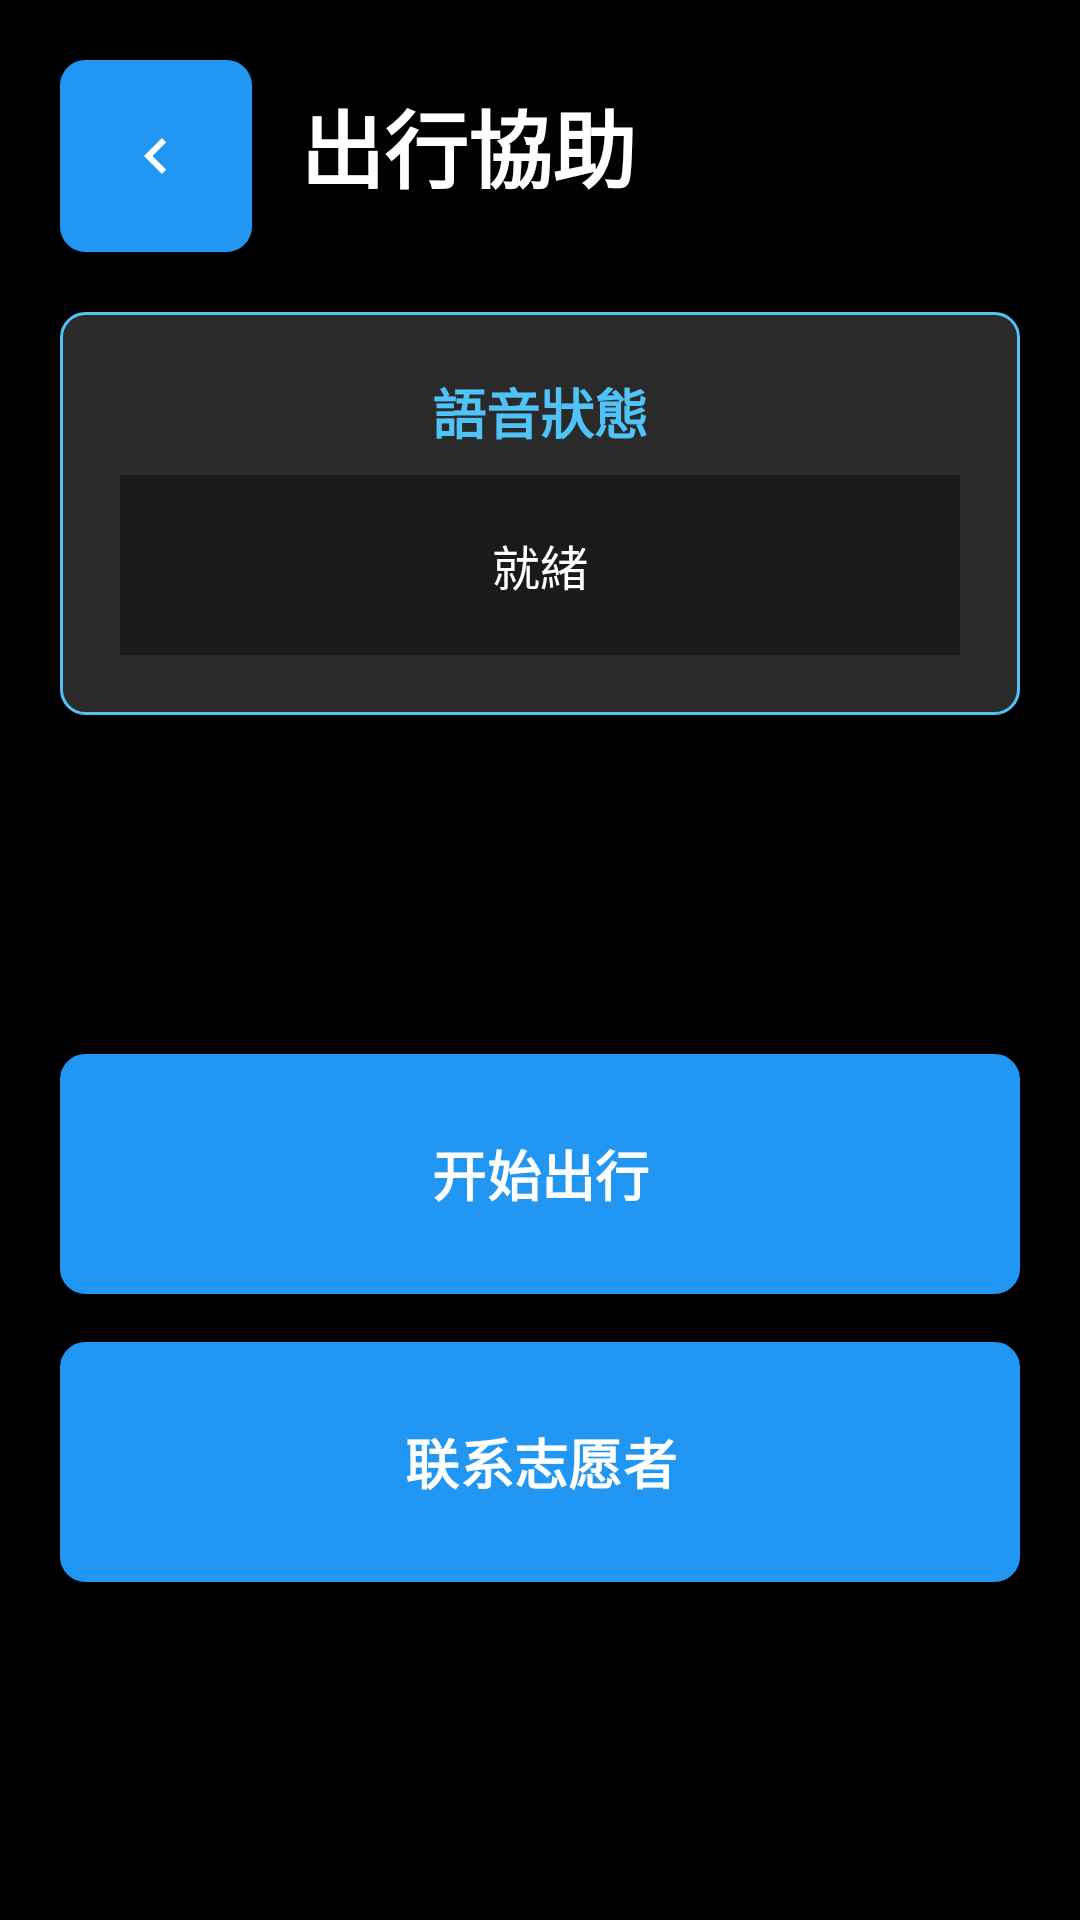

Where to tap for icons on this 1080 × 1920 app screen, as (x,y):
Back Button: (156,156)
